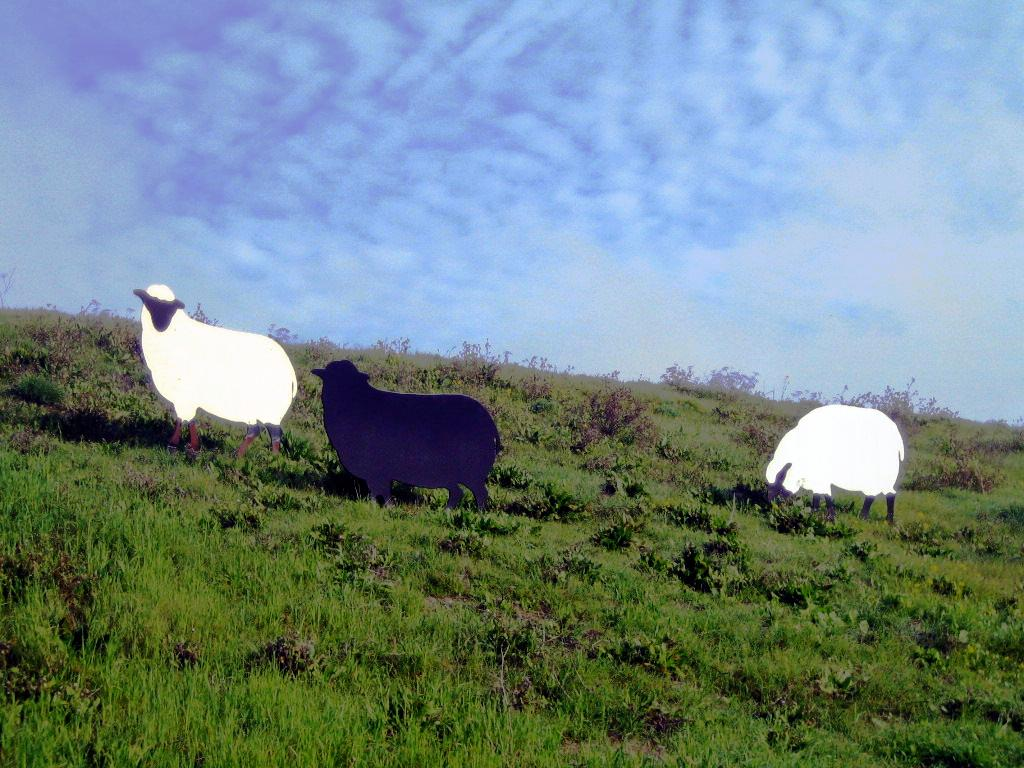Sheep: (133, 276, 303, 465), (303, 361, 505, 517), (763, 397, 909, 531)
